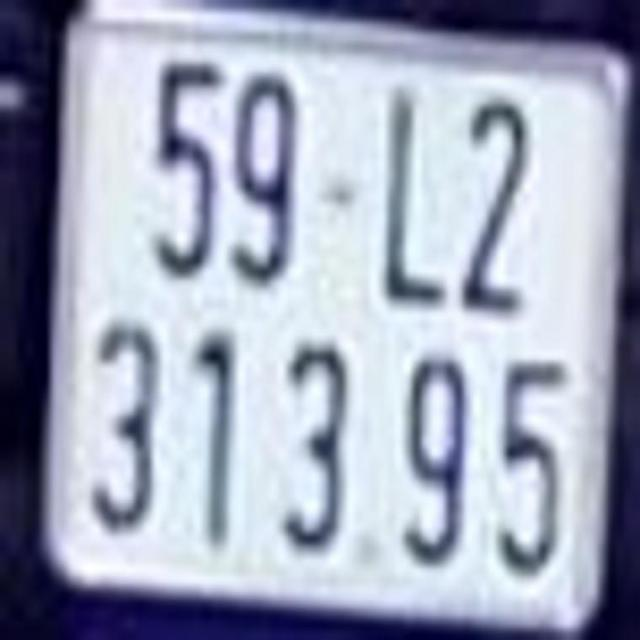1: (180, 316, 245, 559)
2: (456, 90, 529, 324)
3: (274, 329, 345, 561), (93, 312, 160, 543)
5: (491, 350, 569, 588), (148, 66, 222, 279)
9: (399, 348, 468, 580), (228, 54, 296, 288)
L: (371, 81, 453, 306)
